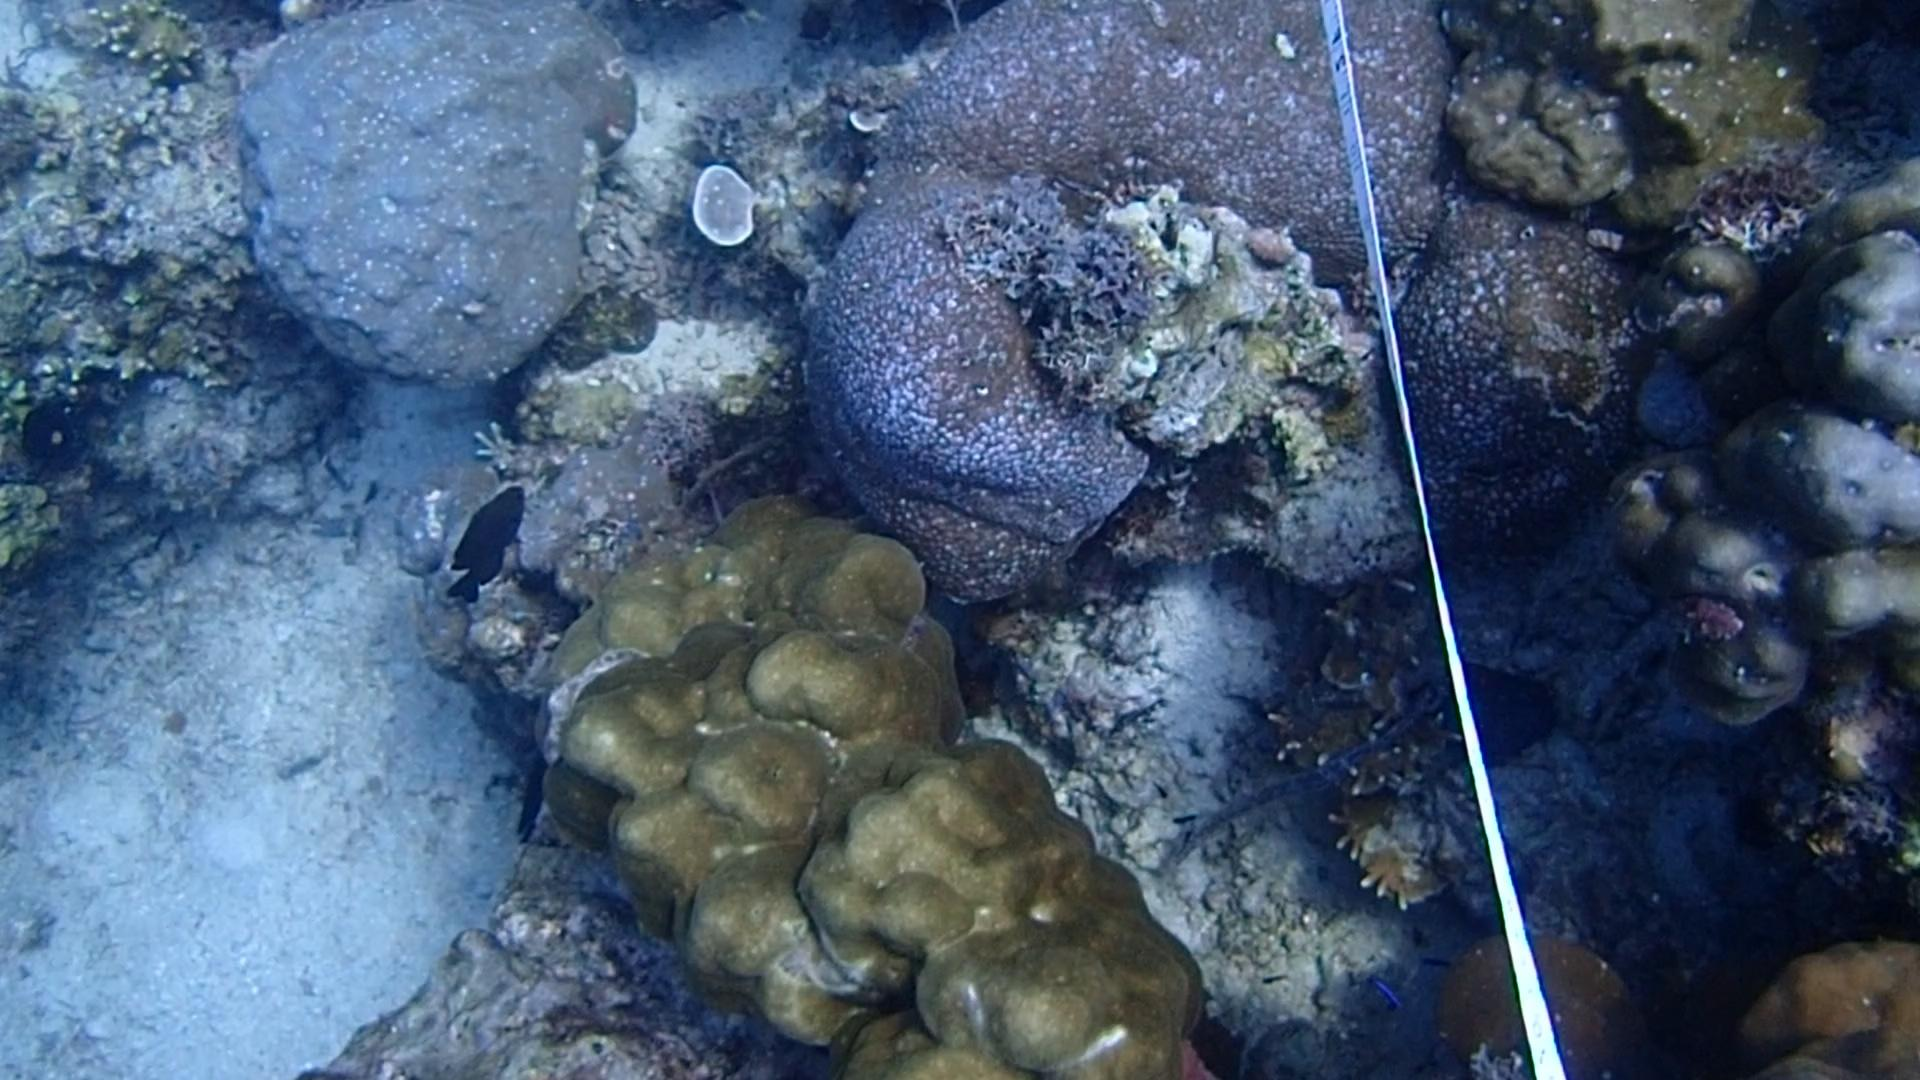Dark Fish: (438, 484, 525, 611)
